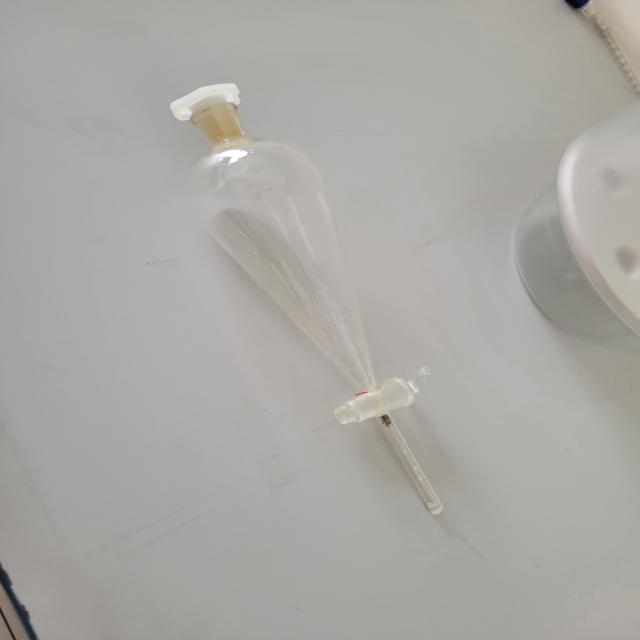Separating_Funnel: (132, 55, 500, 542)
